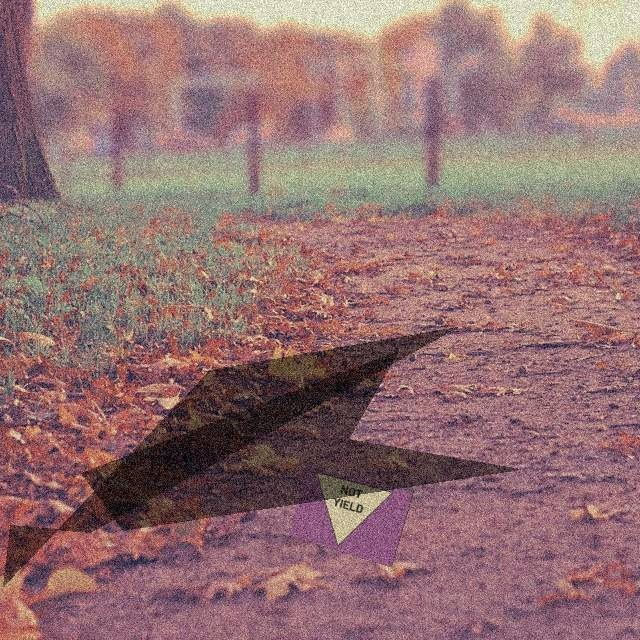NOT_YIELD: (302, 471, 393, 560)
